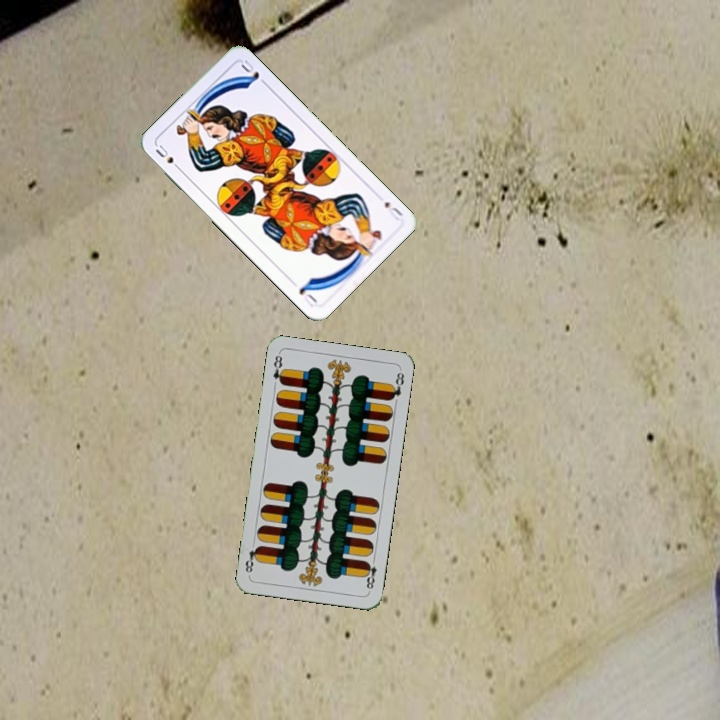E8: (361, 553, 379, 592), (269, 351, 287, 388)
SU: (151, 140, 184, 174), (380, 197, 406, 223)
